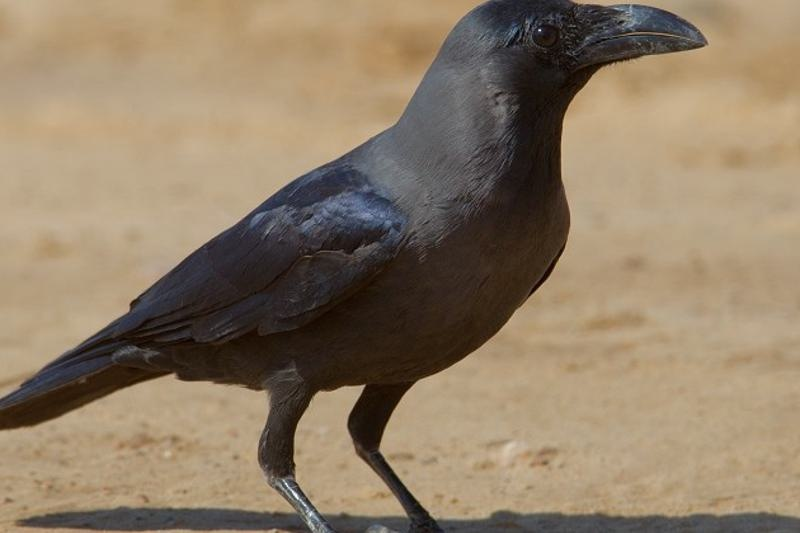crow: (1, 1, 715, 533)
